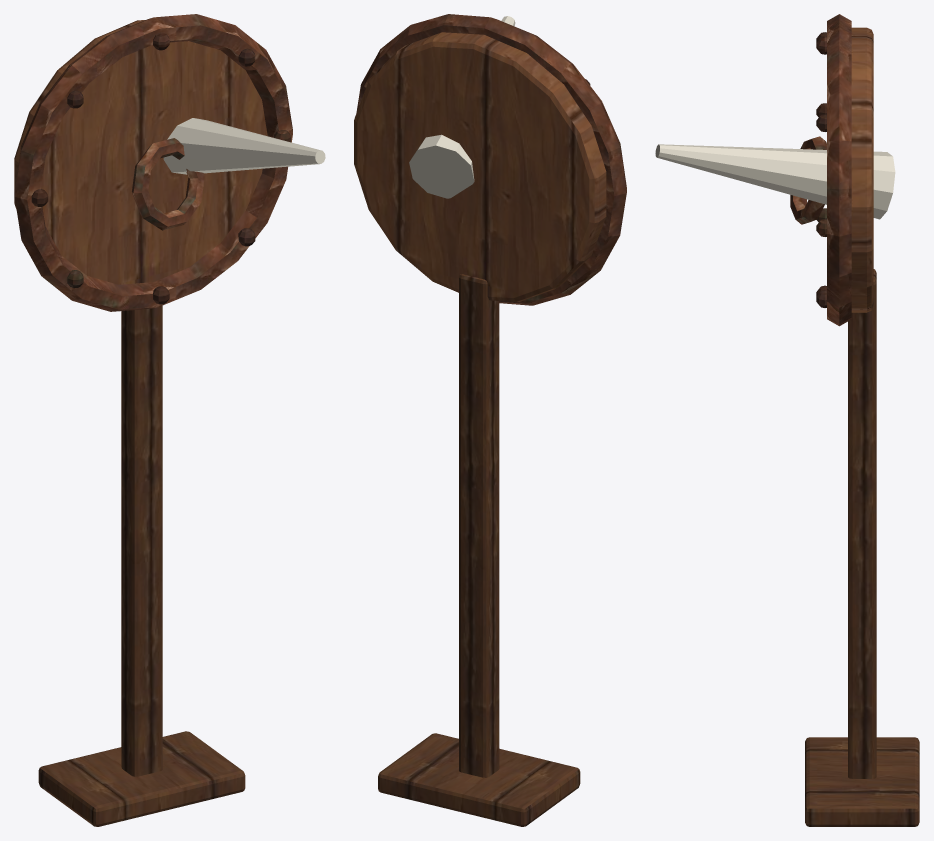
File: horn_plaque.glb
3 renders of one model, left to right at view 1: azimuth 30°, elevation 25°; view 2: azimuth 150°, elevation 25°; view 3: azimuth 270°, elevation 25°, orthographic. The views are drawn at different scales.
Visible parts, largest first — view 1: model; view 2: model; view 3: model.
Part boxes in pixels (x1=…): model: x1=14, y1=14, x2=325, y2=826; model: x1=354, y1=14, x2=626, y2=826; model: x1=655, y1=14, x2=919, y2=826.
Size of the model in its own units: 0.55 by 1.48 by 0.4614.
5 materials, 4 textured.
